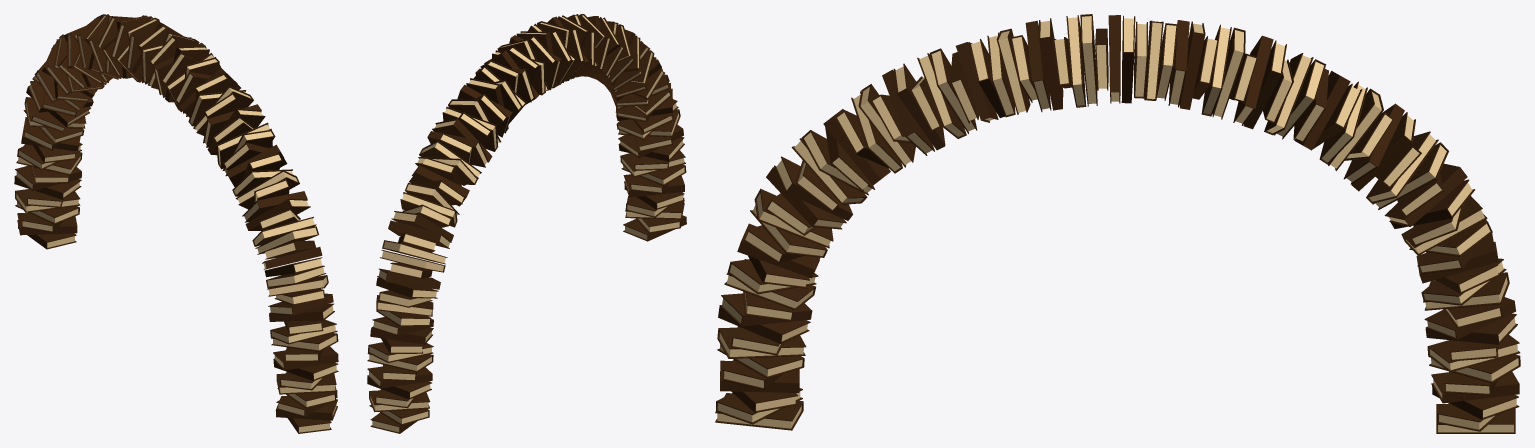
Rendered from BookArch.fbx.
3 renders of one model, left to right at view 1: azimuth 30°, elevation 25°; view 2: azimuth 150°, elevation 25°; view 3: azimuth 270°, elevation 25°, orthographic. The views are drawn at different scales.
Visible parts, largest first — view 1: BookStack; view 2: BookStack; view 3: BookStack.
Part boxes in pixels (x1=…): BookStack: x1=14, y1=14, x2=338, y2=433; BookStack: x1=367, y1=14, x2=686, y2=433; BookStack: x1=715, y1=14, x2=1520, y2=433.
Size of the model in its own units: 233 by 1130 by 2031.
